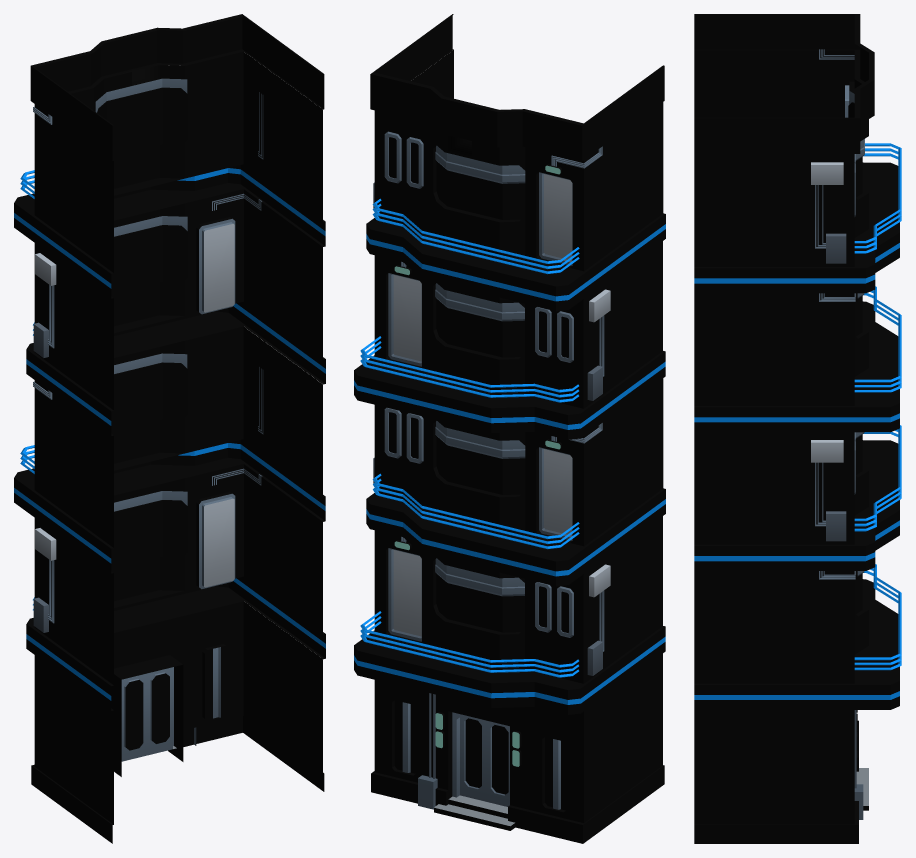
Rendered from Ciudad_Edificio_06.FBX.
3 views of the same model, side by side, from view 1: azimuth 30°, elevation 25°; view 2: azimuth 150°, elevation 25°; view 3: azimuth 270°, elevation 25° (orthographic).
Parts seen in each view (by area): view 1: Ciudad_Edificio_06; view 2: Ciudad_Edificio_06; view 3: Ciudad_Edificio_06.
Part boxes in pixels (box(x1,y1,x2,y2)): Ciudad_Edificio_06: box(14, 14, 325, 843); Ciudad_Edificio_06: box(354, 14, 665, 843); Ciudad_Edificio_06: box(694, 14, 901, 843).
Size of the model in its own units: 809 by 655 by 2532.
